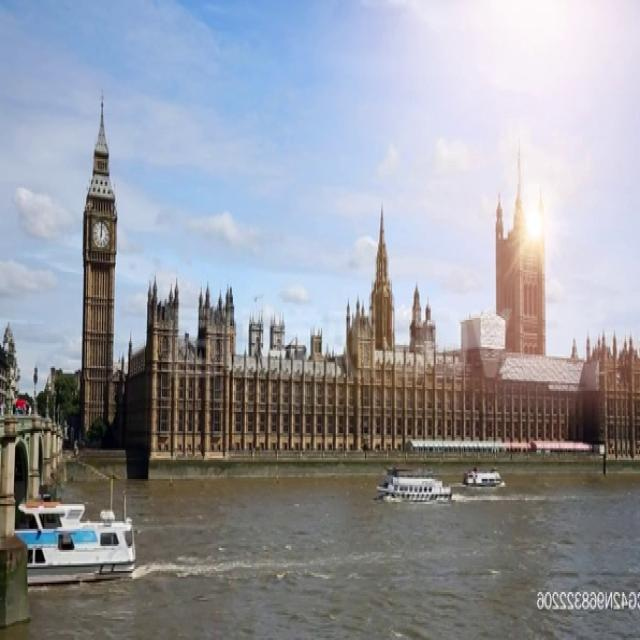passenger ship: (2, 487, 137, 583), (379, 465, 452, 506), (464, 461, 506, 486)
